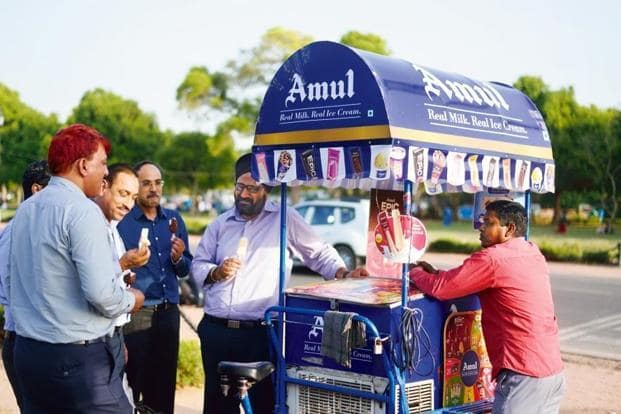Amul: (285, 63, 358, 103)
